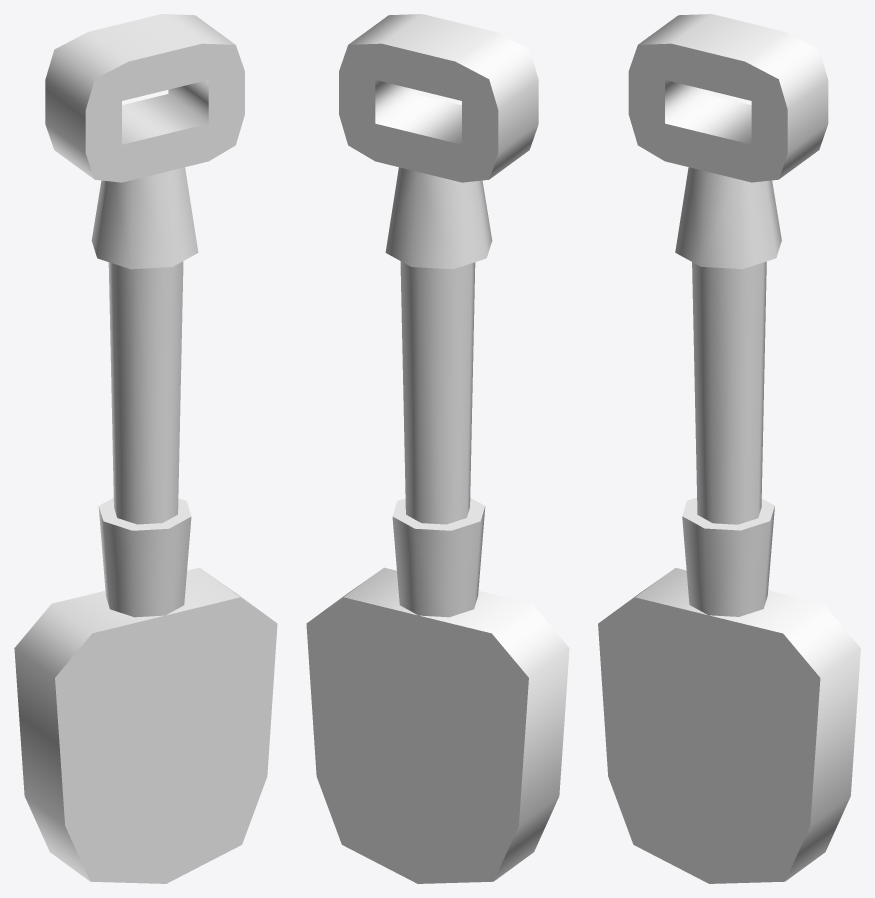
The model's file is tool-shovel.glb.
3 renders of one model, left to right at view 1: azimuth 30°, elevation 25°; view 2: azimuth 150°, elevation 25°; view 3: azimuth 330°, elevation 25°, orthographic.
Visible parts, largest first — view 1: tool-shovel; view 2: tool-shovel; view 3: tool-shovel.
Boxes of the visible parts, left/top/right/bottom form: tool-shovel: left=14, top=14, right=277, bottom=883; tool-shovel: left=306, top=14, right=569, bottom=883; tool-shovel: left=598, top=14, right=860, bottom=883.
Size of the model in its own units: 0.6579 by 2.35 by 0.2828.
Materials: 1 (1 with a texture image).
